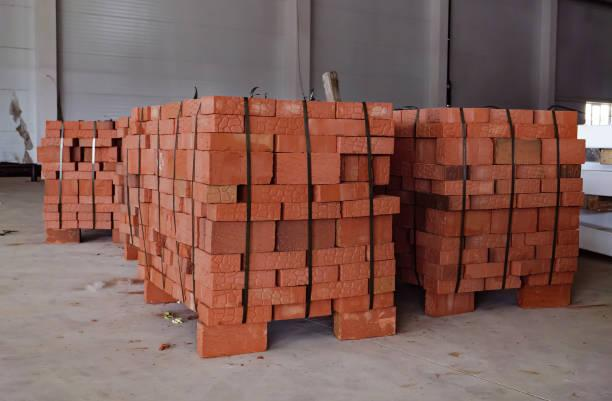Bricks: (333, 306, 398, 341), (198, 321, 266, 354), (199, 150, 255, 187), (205, 219, 249, 255), (430, 138, 488, 165), (374, 313, 434, 337), (517, 282, 572, 308), (425, 289, 475, 317), (424, 207, 474, 235), (314, 278, 371, 302), (196, 302, 250, 327), (194, 181, 247, 206), (203, 132, 265, 153), (275, 153, 313, 186), (419, 232, 467, 258), (494, 138, 541, 164), (249, 250, 302, 273), (195, 282, 243, 307), (255, 285, 307, 308), (197, 250, 243, 276), (276, 219, 310, 252), (314, 246, 364, 268), (308, 118, 365, 137), (318, 181, 367, 203), (253, 183, 304, 204), (308, 154, 343, 184), (337, 217, 372, 247), (196, 95, 246, 116), (414, 191, 462, 212), (248, 220, 278, 253), (196, 114, 245, 134), (254, 116, 305, 135), (205, 201, 251, 222), (333, 292, 375, 315), (421, 261, 464, 283), (144, 278, 179, 305), (523, 270, 576, 287), (430, 179, 483, 196), (310, 219, 338, 251), (171, 149, 198, 182), (465, 232, 511, 251), (247, 201, 288, 221), (423, 106, 462, 126), (342, 198, 379, 219), (555, 138, 586, 163), (336, 261, 371, 283), (464, 261, 506, 279), (309, 281, 345, 302), (372, 215, 396, 246), (278, 267, 313, 288), (245, 269, 280, 290), (273, 301, 309, 321), (307, 134, 341, 155), (469, 194, 511, 211), (510, 210, 539, 234), (274, 133, 307, 154), (173, 212, 195, 243), (342, 155, 368, 181), (159, 192, 188, 215), (414, 162, 449, 181), (516, 123, 555, 140), (517, 193, 558, 209), (78, 179, 115, 196), (415, 138, 439, 164), (469, 164, 503, 182), (371, 194, 400, 215), (311, 201, 343, 220), (282, 202, 314, 221), (455, 276, 490, 293), (468, 121, 503, 138), (462, 247, 495, 265), (248, 97, 277, 117), (45, 227, 79, 244), (510, 259, 543, 276), (368, 117, 396, 137), (277, 99, 308, 117), (516, 165, 553, 180), (557, 207, 581, 230), (372, 156, 391, 185), (337, 136, 369, 153), (136, 149, 158, 173), (336, 102, 367, 119), (306, 299, 333, 318), (307, 101, 337, 118), (463, 107, 493, 124), (553, 110, 579, 129), (507, 245, 536, 262), (372, 275, 396, 295), (513, 178, 542, 194), (370, 137, 395, 155), (553, 257, 579, 274), (147, 267, 166, 290), (60, 170, 99, 181), (36, 146, 61, 163), (484, 276, 512, 291), (172, 178, 193, 198), (160, 102, 183, 120), (553, 244, 580, 259), (534, 110, 560, 125), (560, 191, 584, 207), (60, 178, 79, 197), (155, 118, 176, 135), (123, 239, 139, 261), (123, 134, 145, 150), (60, 210, 80, 227), (94, 148, 118, 162), (560, 178, 584, 192), (73, 203, 92, 220), (93, 212, 113, 228), (560, 164, 582, 178), (63, 126, 88, 138), (74, 214, 95, 228), (44, 179, 60, 197), (96, 129, 118, 142), (95, 171, 121, 182), (43, 213, 61, 228), (45, 120, 65, 133), (94, 203, 117, 214), (41, 168, 61, 180), (79, 149, 97, 162), (63, 121, 85, 131), (39, 137, 62, 146), (77, 137, 95, 148), (61, 137, 77, 149), (77, 162, 95, 172), (115, 117, 129, 129), (96, 120, 114, 129)
